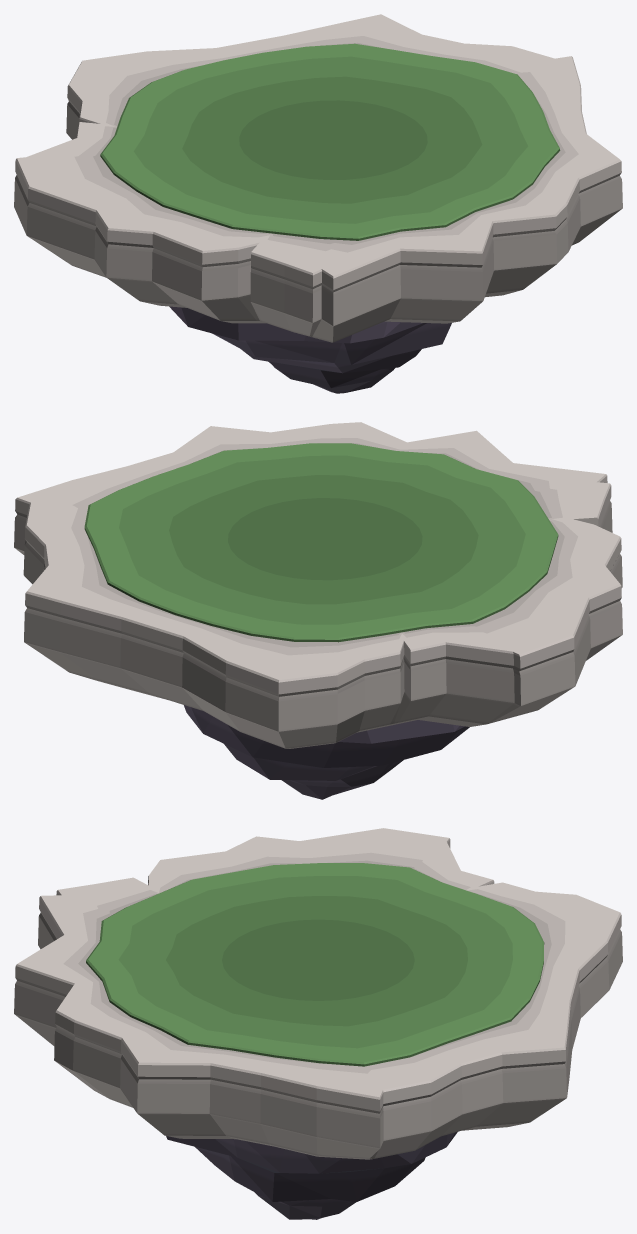
The model's file is Island 1.fbx.
3 views of the same model, one above another, from view 1: azimuth 30°, elevation 25°; view 2: azimuth 150°, elevation 25°; view 3: azimuth 270°, elevation 25° (orthographic). The views are drawn at different scales.
Parts seen in each view (by area): view 1: Island; view 2: Island; view 3: Island.
Part boxes in pixels (x1,y1,x2,y2): Island: (14, 14, 622, 393); Island: (14, 422, 622, 799); Island: (14, 828, 622, 1219).
Bounding box in the file's own units: 2120 × 925 × 2007.
